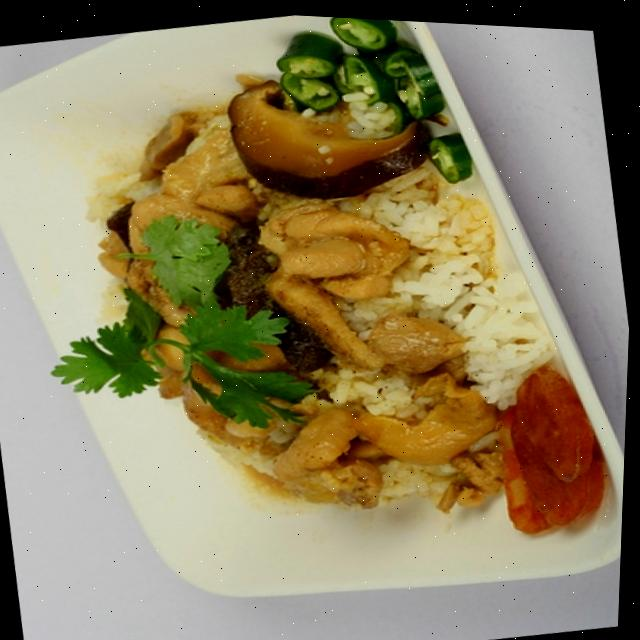米饭主食: (67, 3, 552, 555)
